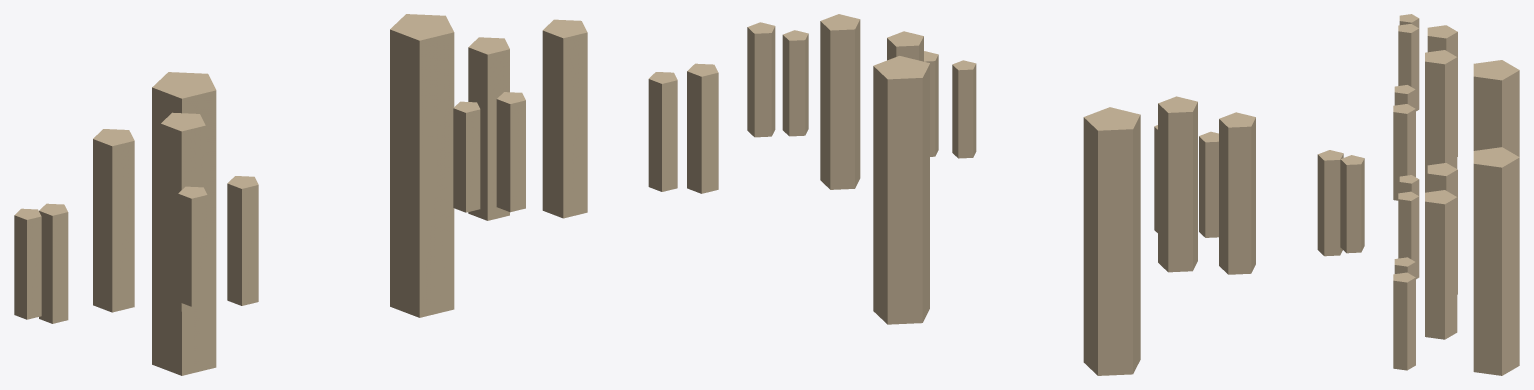
File: elk.dae
3 views of the same model, side by side, from view 1: azimuth 30°, elevation 25°; view 2: azimuth 150°, elevation 25°; view 3: azimuth 270°, elevation 25° (orthographic). The views are drawn at different scales.
Parts seen in each view (by area): view 1: Cylinder.007, Cylinder, Cylinder.008, Cylinder.004, Cylinder.001, Cylinder.011, Cylinder.002, Cylinder.009, Cylinder.003, Cylinder.012, Cylinder.010, Cylinder.005 (+2 smaller); view 2: Cylinder, Cylinder.007, Cylinder.008, Cylinder.001, Cylinder.004, Cylinder.009, Cylinder.010, Cylinder.005, Cylinder.013, Cylinder.006, Cylinder.003, Cylinder.012 (+1 smaller); view 3: Cylinder.007, Cylinder.008, Cylinder, Cylinder.001, Cylinder.009, Cylinder.002, Cylinder.012, Cylinder.005, Cylinder.011, Cylinder.004, Cylinder.003, Cylinder.013 (+2 smaller).
Boxes of the visible parts, bbox=[...] form: Cylinder.007: bbox=[390, 14, 454, 317]; Cylinder: bbox=[152, 72, 216, 375]; Cylinder.008: bbox=[542, 19, 587, 218]; Cylinder.004: bbox=[93, 129, 134, 312]; Cylinder.001: bbox=[160, 112, 205, 311]; Cylinder.011: bbox=[468, 37, 509, 220]; Cylinder.002: bbox=[227, 176, 258, 305]; Cylinder.009: bbox=[687, 63, 718, 193]; Cylinder.003: bbox=[178, 186, 207, 306]; Cylinder.012: bbox=[496, 92, 525, 212]; Cylinder.010: bbox=[648, 72, 677, 191]; Cylinder.005: bbox=[39, 203, 68, 323]; Cylinder: bbox=[1083, 107, 1140, 375]; Cylinder.007: bbox=[873, 56, 929, 324]; Cylinder.008: bbox=[820, 14, 860, 189]; Cylinder.001: bbox=[1158, 96, 1197, 272]; Cylinder.004: bbox=[1219, 112, 1255, 274]; Cylinder.009: bbox=[747, 22, 775, 137]; Cylinder.010: bbox=[782, 30, 808, 136]; Cylinder.005: bbox=[1317, 150, 1343, 256]; Cylinder.013: bbox=[952, 60, 976, 158]; Cylinder.006: bbox=[1340, 155, 1364, 253]; Cylinder.003: bbox=[1199, 131, 1218, 237]; Cylinder.012: bbox=[924, 51, 938, 156]; Cylinder.007: bbox=[1473, 147, 1519, 375]; Cylinder.008: bbox=[1425, 190, 1457, 339]; Cylinder: bbox=[1473, 60, 1519, 156]; Cylinder.001: bbox=[1425, 50, 1457, 192]; Cylinder.009: bbox=[1393, 272, 1415, 370]; Cylinder.002: bbox=[1393, 104, 1415, 200]; Cylinder.012: bbox=[1398, 191, 1419, 279]; Cylinder.005: bbox=[1398, 24, 1419, 111]; Cylinder.011: bbox=[1427, 163, 1457, 294]; Cylinder.004: bbox=[1427, 25, 1457, 156]; Cylinder.003: bbox=[1394, 85, 1415, 108]; Cylinder.013: bbox=[1399, 175, 1419, 195].
Bounding box in the file's own units: 47.36 × 9.91 × 18.
